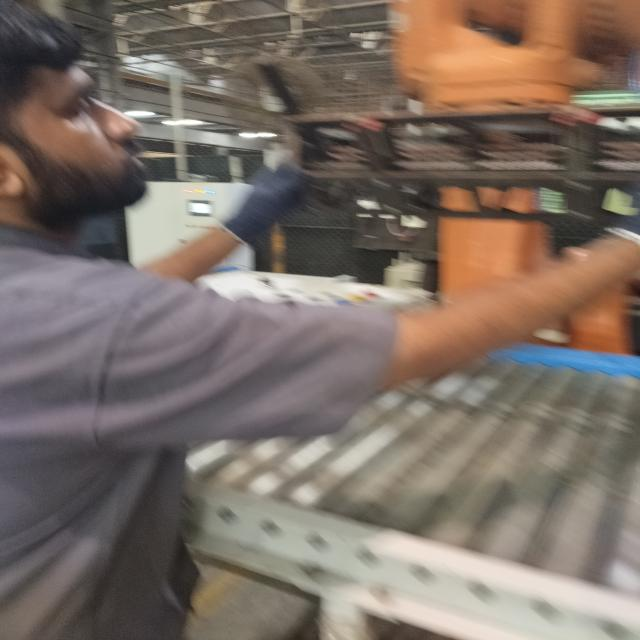Gloves-Detection: (221, 163, 298, 240)
